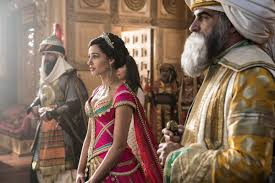middle_eastern_Female: (83, 39, 123, 78)
